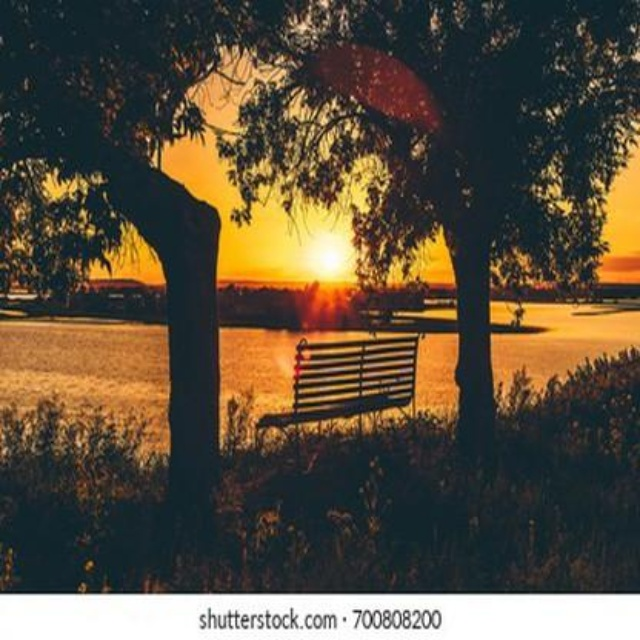obstacle: (263, 335, 434, 463)
